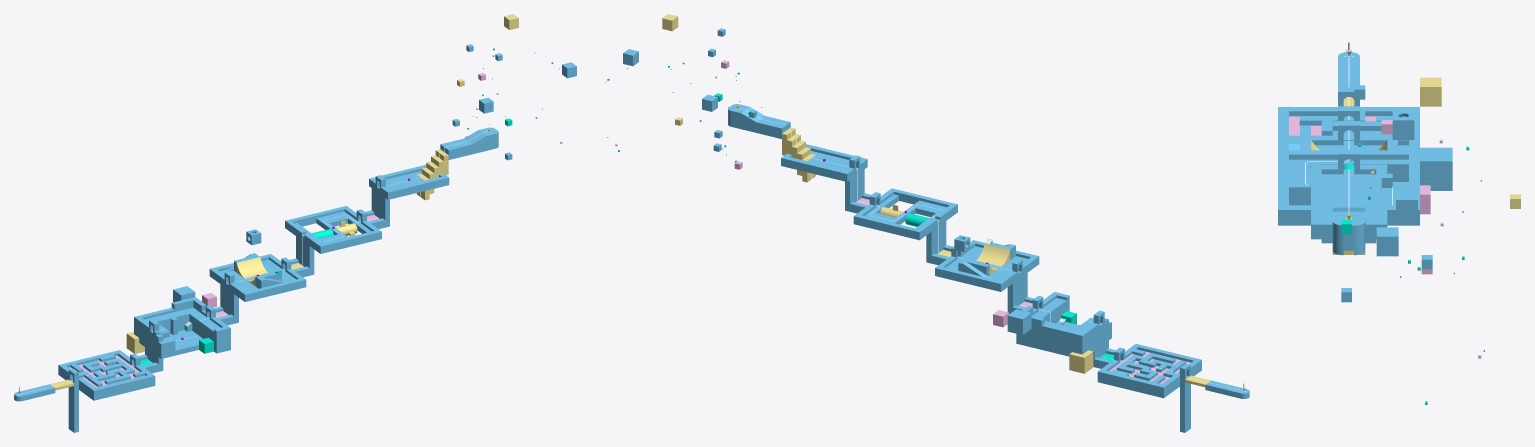
File: level_stairs.glb
3 views of the same model, side by side, from view 1: azimuth 30°, elevation 25°; view 2: azimuth 150°, elevation 25°; view 3: azimuth 270°, elevation 25° (orthographic). The views are drawn at different scales.
Visible parts, largest first — view 1: block_1x1x1_10, block_1x1x1__7__1, block_1x1x1_3, block_1x1x1__3_, block_1x1x1_4, block_1x1x1__3__1, block_1x1x1__10__1, block_1x1x1_8; view 2: block_1x1x1_10, block_1x1x1_3, block_1x1x1__8__1, block_1x1x1_8, block_1x1x1__6_, block_1x1x1__7__1, block_1x1x1_4, block_1x1x1__6__1; view 3: block_1x1x1_3, block_1x1x1__16__1, block_1x1x1__29__1, block_1x1x1_4, block_1x1x1__3__1, block_1x1x1__30_, block_2x2x1__1_, block_1x1x1__6__6, block_1x1x1__3__2, hole1, block_1x1x1__4__5, block_1x1x1__5__5 (+25 smaller).
Boxes of the visible parts, bbox=[...] form: block_1x1x1_10: bbox=[209, 259, 306, 301]; block_1x1x1__7__1: bbox=[184, 307, 230, 353]; block_1x1x1_3: bbox=[369, 171, 449, 199]; block_1x1x1__3_: bbox=[96, 374, 155, 399]; block_1x1x1_4: bbox=[440, 138, 486, 159]; block_1x1x1__3__1: bbox=[323, 230, 381, 252]; block_1x1x1__10__1: bbox=[170, 330, 202, 355]; block_1x1x1_8: bbox=[134, 318, 169, 354]; block_1x1x1_10: bbox=[935, 246, 1039, 291]; block_1x1x1_3: bbox=[781, 151, 867, 181]; block_1x1x1__8__1: bbox=[1031, 321, 1075, 355]; block_1x1x1_8: bbox=[1067, 317, 1105, 356]; block_1x1x1__6_: bbox=[1097, 369, 1160, 396]; block_1x1x1__7__1: bbox=[1016, 298, 1069, 347]; block_1x1x1_4: bbox=[741, 116, 790, 138]; block_1x1x1__6__1: bbox=[853, 214, 916, 238]; block_1x1x1_3: bbox=[1311, 169, 1376, 239]; block_1x1x1__16__1: bbox=[1420, 147, 1452, 190]; block_1x1x1__29__1: bbox=[1289, 159, 1310, 197]; block_1x1x1_4: bbox=[1332, 184, 1365, 207]; block_1x1x1__3__1: bbox=[1278, 154, 1288, 224]; block_1x1x1__30_: bbox=[1311, 159, 1408, 174]; block_2x2x1__1_: bbox=[1338, 56, 1359, 87]; block_1x1x1__6__6: bbox=[1376, 227, 1398, 256]; block_1x1x1__3__2: bbox=[1311, 169, 1321, 229]; hole1: bbox=[1392, 111, 1414, 139]; block_1x1x1__4__5: bbox=[1420, 77, 1441, 106]; block_1x1x1__5__5: bbox=[1396, 190, 1417, 219].
Bounding box in the file's own units: 121 × 57.99 × 22.26.
